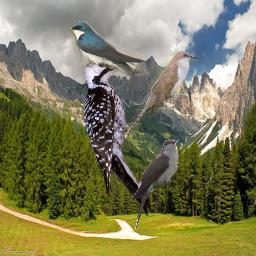Cuckoo: (125, 51, 199, 138), (131, 139, 179, 231)
Swallow: (69, 21, 146, 76)
Woodpecker: (82, 57, 151, 216)
